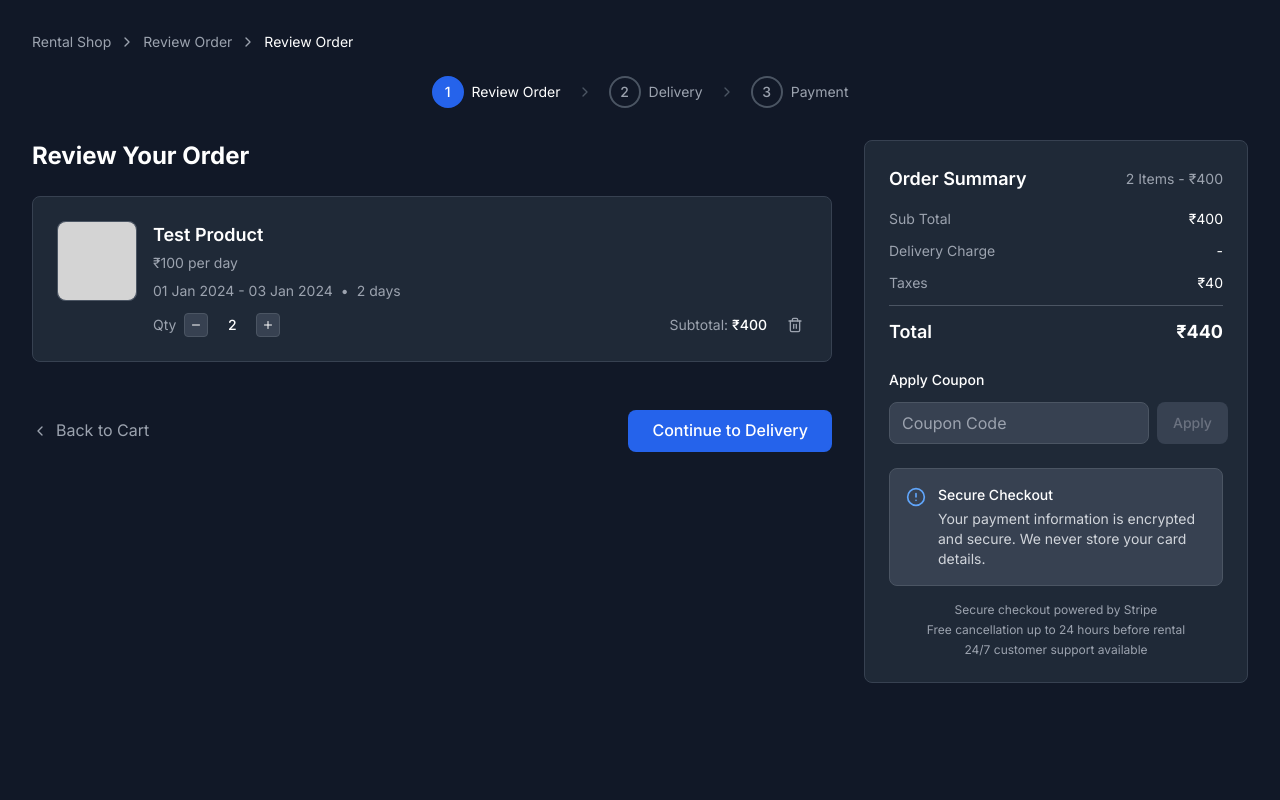
Test: CheckoutPage › applies coupon code successfully
// Enter valid coupon code
In the field with placeholder "Coupon Code": (1019, 423) [889, 402, 1149, 444], type "SAVE10"
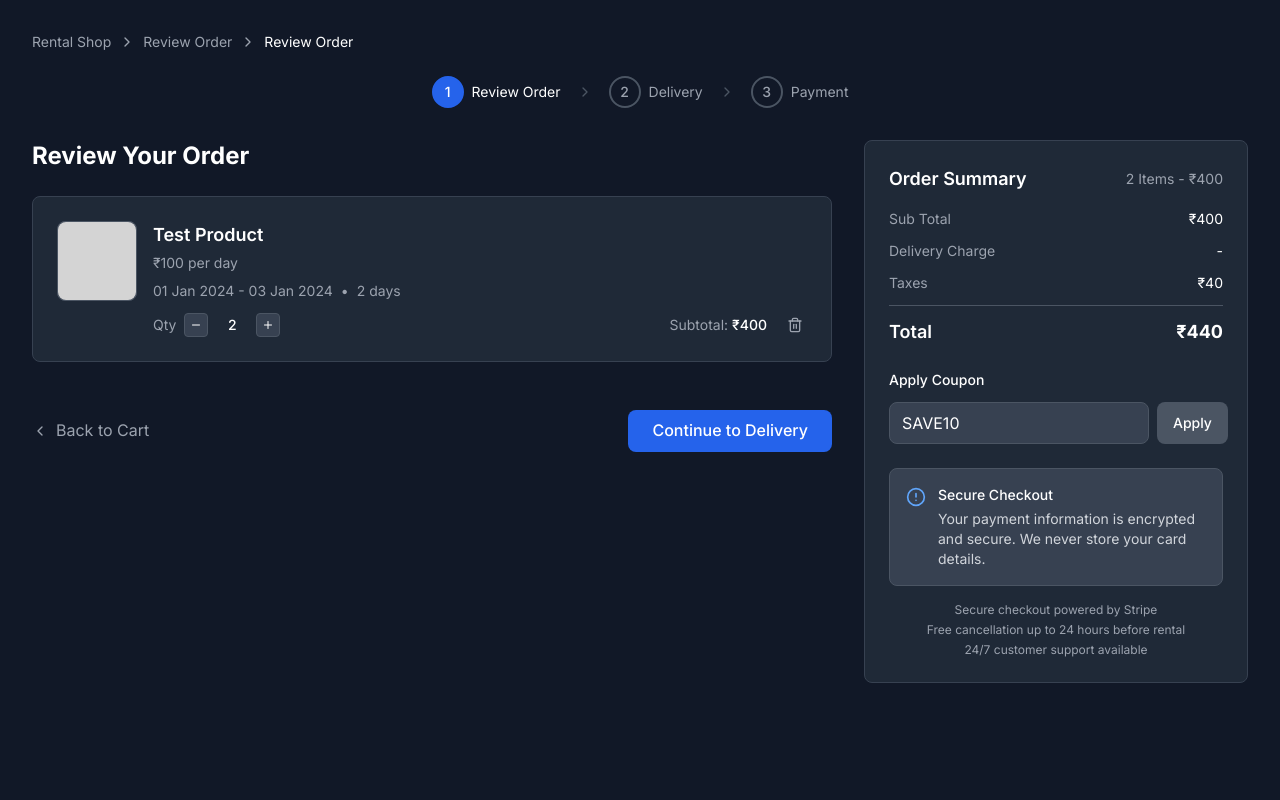
Click the button "Apply": (1192, 423) [1157, 402, 1228, 444]
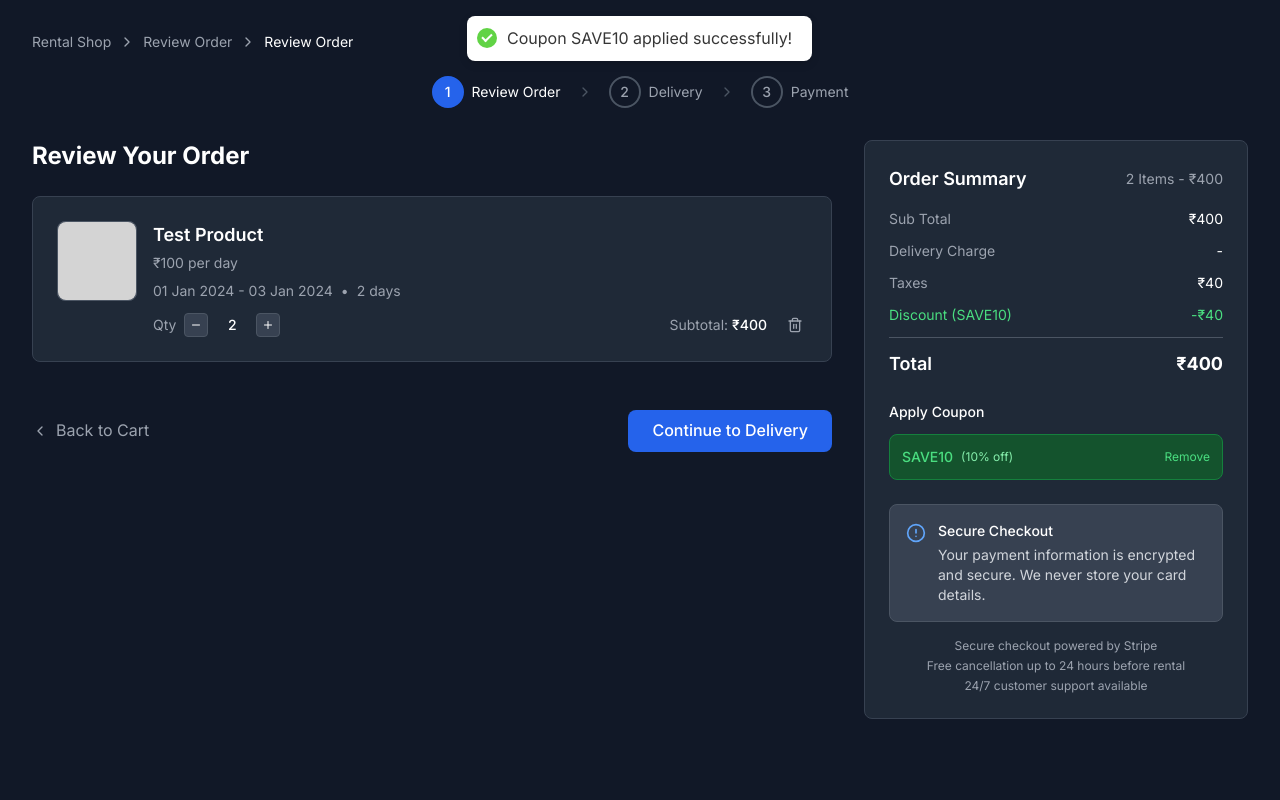
Now the text "Coupon SAVE10 applied successfully!" is shown, box [507, 28, 793, 49]
